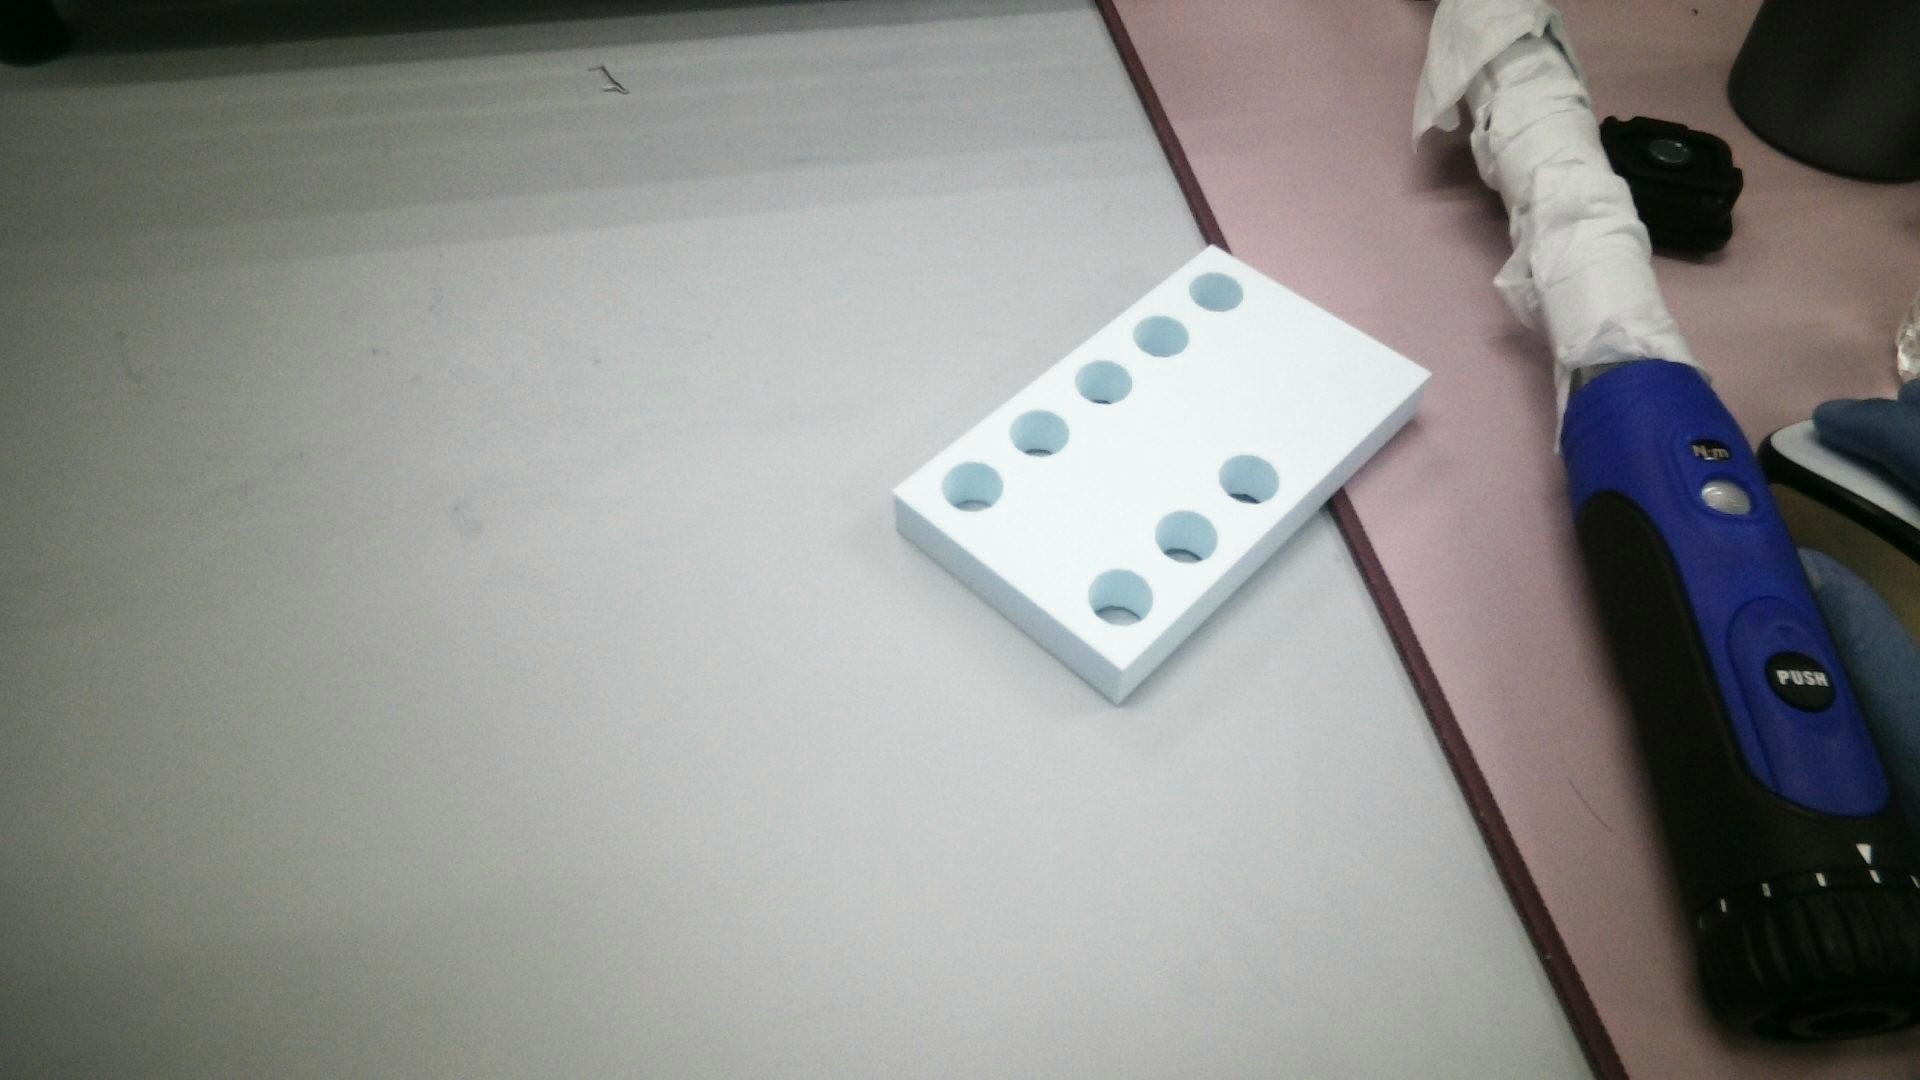hole: (1154, 505, 1222, 570), (1087, 566, 1153, 632), (1007, 407, 1073, 460), (1072, 355, 1135, 407), (936, 464, 1004, 513), (1218, 450, 1280, 502), (1185, 272, 1247, 310), (1131, 314, 1185, 355)
obj: (880, 233, 1448, 728)
